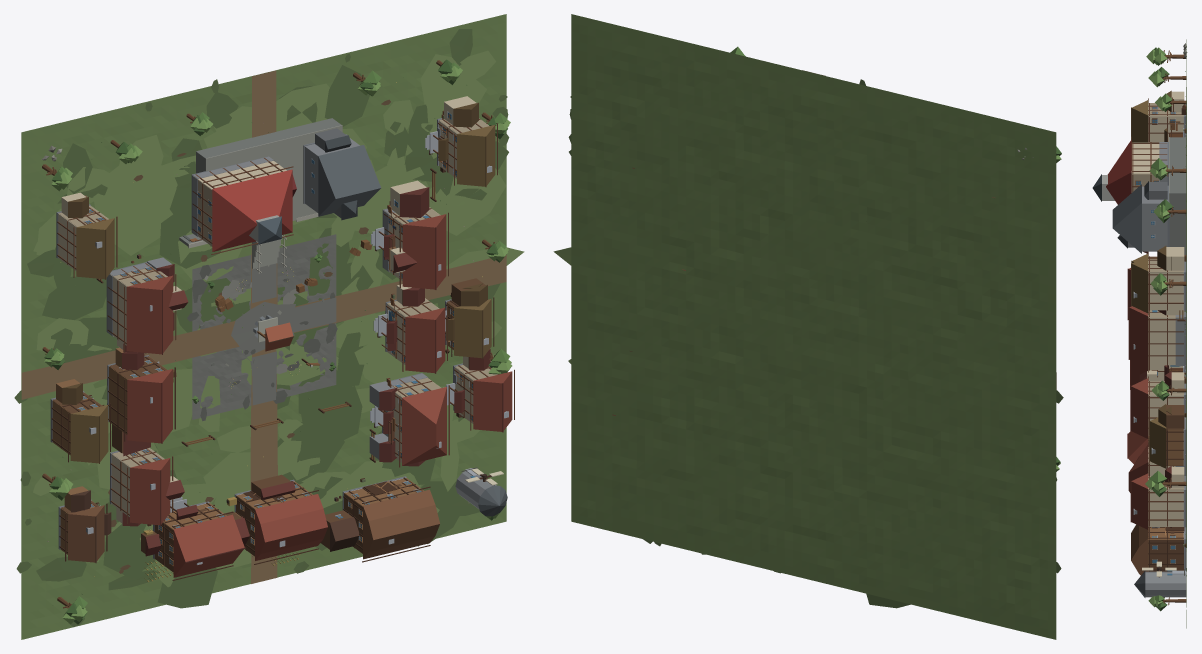
Rendered from worldforge_field_731904.obj.
3 views of the same model, side by side, from view 1: azimuth 30°, elevation 25°; view 2: azimuth 150°, elevation 25°; view 3: azimuth 270°, elevation 25° (orthographic). The views are drawn at different scales.
Visible parts, largest first — view 1: ground::surfaceGround, plaza::surfaceGround, ground::pathEW, ground::pathNS, townHall::mainRoof, barn::mainRoof, stable::mainRoof, inn::mainRoof, chapel::naveRoof, farmhouse::mainRoof, guild::mainRoof, smithy::mainRoof (+68 smaller); view 2: ground::surfaceGround; view 3: civicTerrace::terraceMass, chapel::naveRoof, merchant::walls, chapel::nave, houseSE::walls, merchant::mainRoof, windmill::millTower, townHall::mainRoof, houseNE::walls, eastShop::mainRoof, barn::leftWallTone, houseNE::mainRoof (+30 smaller).
Boxes of the visible parts, x1,y1,x2,y2 form: ground::surfaceGround: (21, 14, 506, 639); plaza::surfaceGround: (192, 234, 336, 419); ground::pathEW: (21, 255, 506, 399); ground::pathNS: (250, 70, 277, 583); townHall::mainRoof: (212, 169, 292, 251); barn::mainRoof: (363, 489, 439, 559); stable::mainRoof: (255, 494, 327, 560); inn::mainRoof: (126, 275, 173, 354); chapel::naveRoof: (318, 145, 381, 216); farmhouse::mainRoof: (173, 514, 244, 577); guild::mainRoof: (402, 387, 446, 465); smithy::mainRoof: (127, 369, 172, 443); ground::surfaceGround: (571, 14, 1056, 639); civicTerrace::terraceMass: (1169, 137, 1186, 255); chapel::naveRoof: (1112, 184, 1141, 253); merchant::walls: (1148, 315, 1181, 365); chapel::nave: (1142, 186, 1167, 251); houseSE::walls: (1148, 476, 1183, 526); merchant::mainRoof: (1129, 306, 1148, 368); windmill::millTower: (1145, 571, 1186, 597); townHall::mainRoof: (1106, 140, 1131, 204); houseNE::walls: (1148, 259, 1183, 310); eastShop::mainRoof: (1131, 378, 1148, 438); barn::leftWallTone: (1148, 540, 1183, 571); houseNE::mainRoof: (1131, 256, 1148, 313).
Size of the model in its own units: 67.35 by 66.02 by 12.91.
